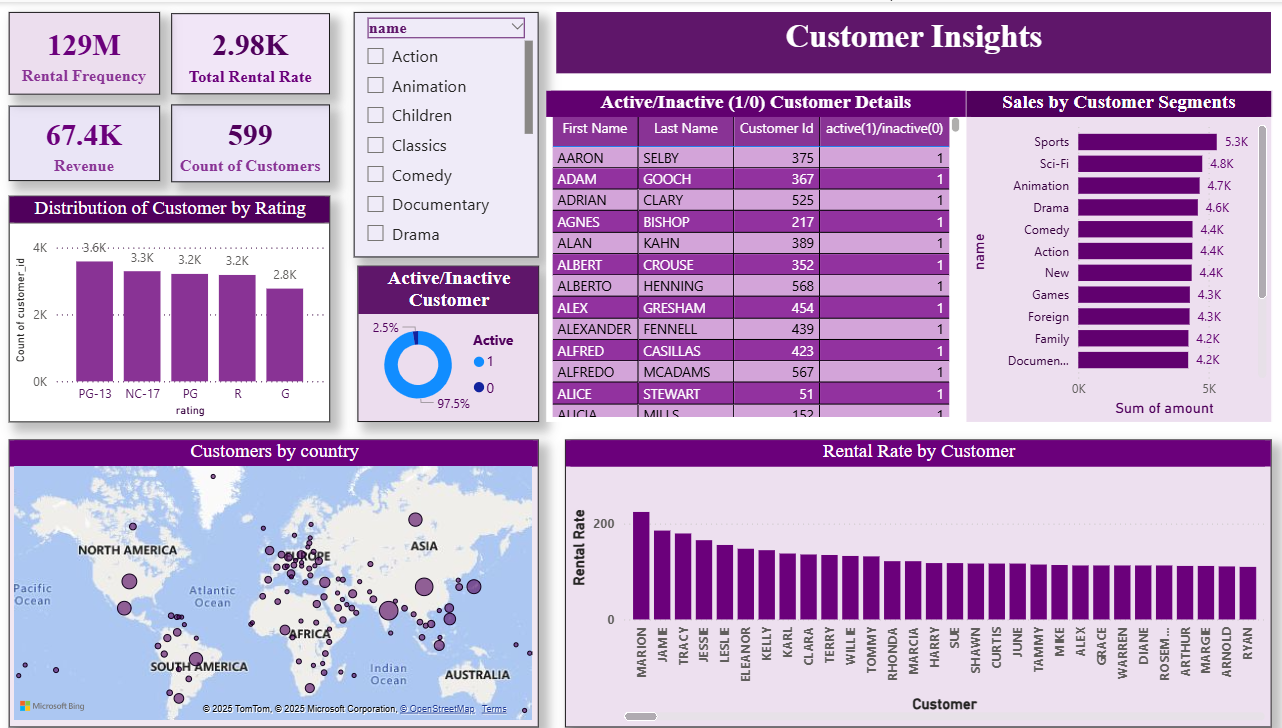

The page's visual inventory and layout, read from the dashboard file:
{"tool":"powerbi","page":{"name":"Customer Analysis","canvas":[1280,720],"ordinal":3},"visuals":[{"type":"textbox","box":[553.9,9.8,699.5,59.9],"z":0},{"type":"card","fields":{"Values":["Sum(payment.payment_id)"]},"box":[18.3,9.8,148,80.7],"z":1000},{"type":"card","fields":{"Values":["Sum(film.rental_rate)"]},"box":[177.3,11,155.3,79.5],"z":2000},{"type":"card","fields":{"Values":["payment.Revenue"]},"box":[18.3,101.5,148,73.4],"z":3000},{"type":"card","fields":{"Values":["CountNonNull(customer.customer_id)"]},"box":[177.3,100.3,155.3,75.8],"z":4000},{"type":"slicer","fields":{"Values":["category.name"]},"box":[355.8,9.8,181,239.7],"z":5000},{"type":"donutChart","title":"Active/Inactive Customer","fields":{"Y":["CountNonNull(customer.active)"],"Category":["customer.active"]},"box":[359.5,258,177.3,152.9],"z":6000},{"type":"columnChart","title":"Distribution of Customer by Rating","fields":{"Category":["film.rating"],"Y":["CountNonNull(payment.customer_id)"]},"box":[18.3,189.5,314.3,221.3],"z":7000},{"type":"tableEx","title":"Active/Inactive (1/0) Customer Details","fields":{"Values":["customer.first_name","customer.last_name","customer.customer_id","Sum(customer.active)"]},"box":[544.3,87.3,410.1,324.1],"z":8000},{"type":"columnChart","fields":{"Category":["customer.first_name"],"Y":["Sum(film.rental_rate)"]},"box":[562.5,428,690.9,281.3],"z":9000},{"type":"map","title":"Customers by country","fields":{"Category":["country.country"],"Size":["CountNonNull(customer.customer_id)"]},"box":[18.3,428,518.5,281.3],"z":10000},{"type":"clusteredBarChart","title":"Sales by Customer Segments","fields":{"Category":["category.name"],"Y":["Sum(payment.amount)"]},"box":[954.4,87.3,298.7,324.1],"z":11000}]}

Visuals, with their boxes in screenshot pixels (x1, y1, x2, y2), scaled from the page's 1280x720 canvas onto the 1282x728 screenshot:
textbox: l=555, t=10, r=1255, b=70
card - Sum(payment.payment_id): l=18, t=10, r=167, b=92
card - Sum(film.rental_rate): l=178, t=11, r=333, b=92
card - payment.Revenue: l=18, t=103, r=167, b=177
card - CountNonNull(customer.customer_id): l=178, t=101, r=333, b=178
slicer - category.name: l=356, t=10, r=538, b=252
"Active/Inactive Customer" donutChart: l=360, t=261, r=538, b=415
"Distribution of Customer by Rating" columnChart: l=18, t=192, r=333, b=415
"Active/Inactive (1/0) Customer Details" tableEx: l=545, t=88, r=956, b=416
columnChart - customer.first_name x Sum(film.rental_rate): l=563, t=433, r=1255, b=717
"Customers by country" map: l=18, t=433, r=538, b=717
"Sales by Customer Segments" clusteredBarChart: l=956, t=88, r=1255, b=416
